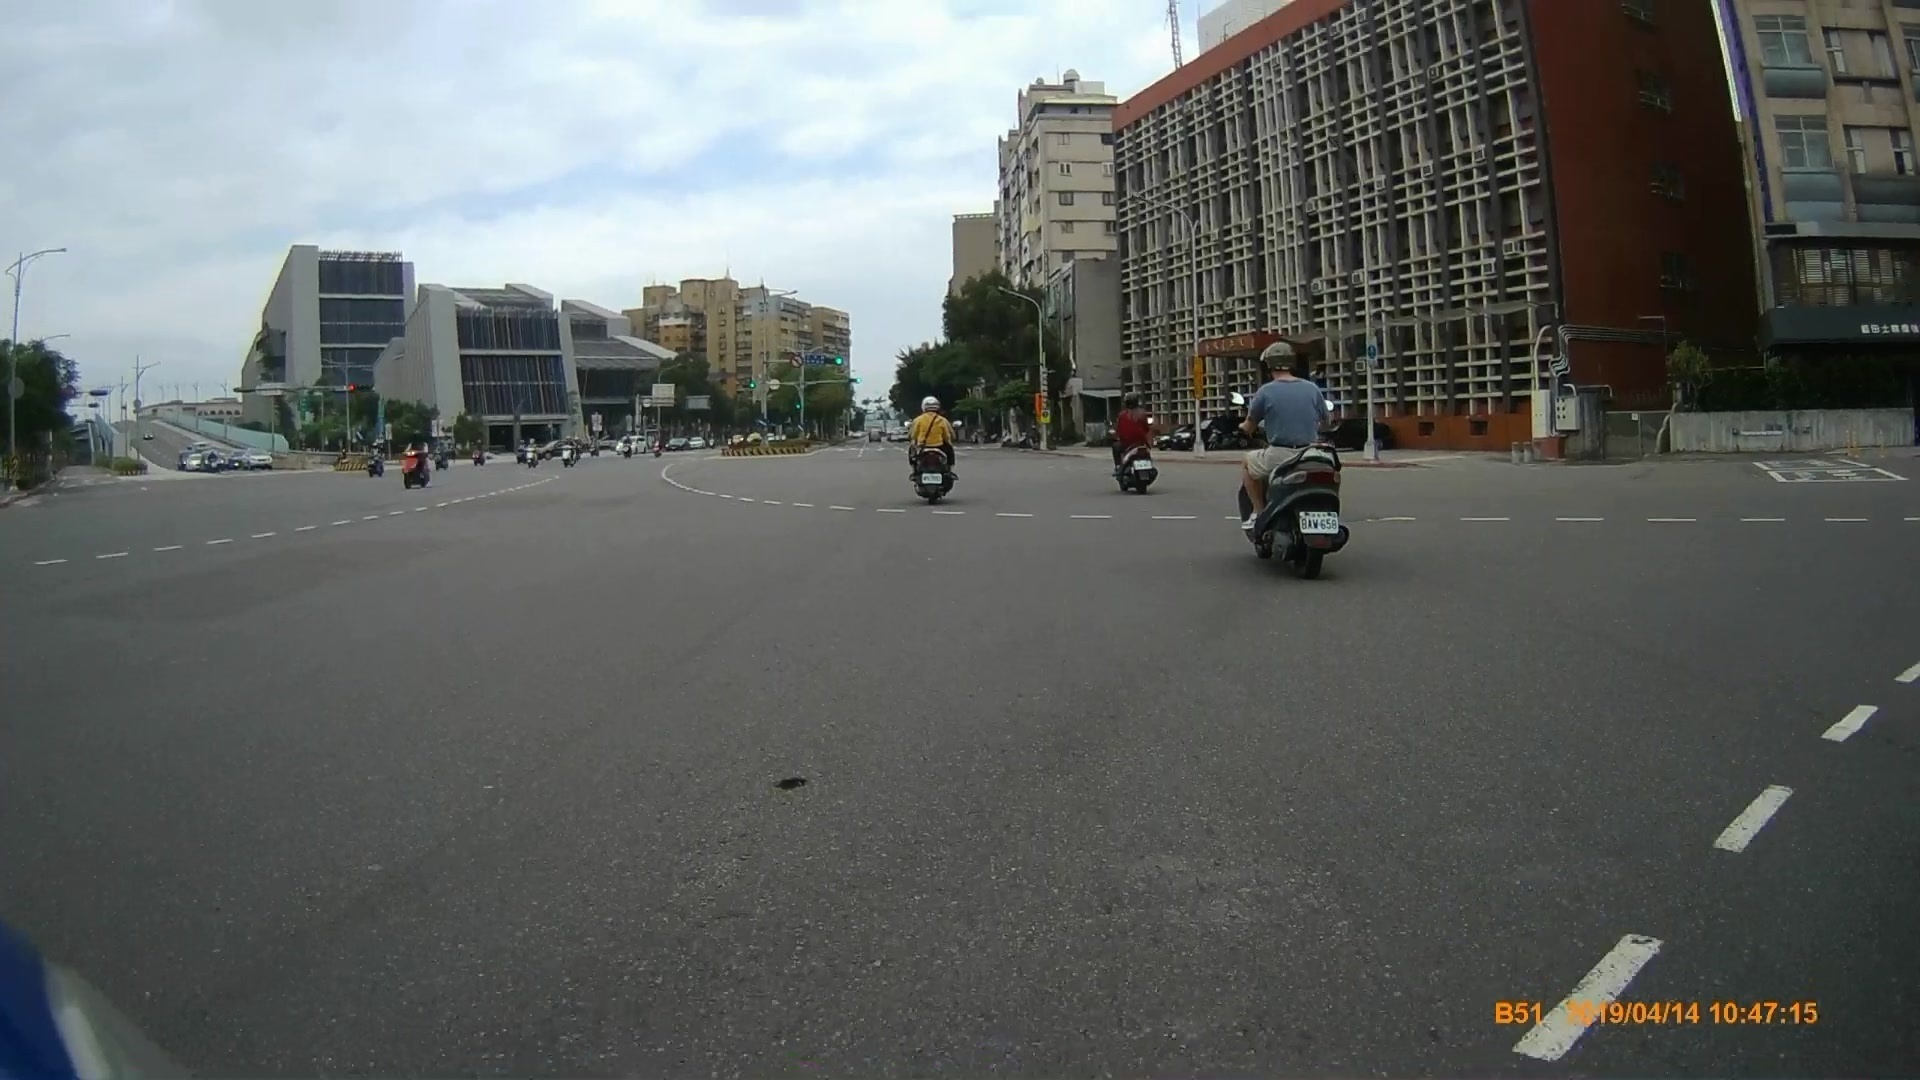License_plate: (1297, 508, 1336, 533), (919, 470, 945, 486), (1131, 457, 1158, 472)
